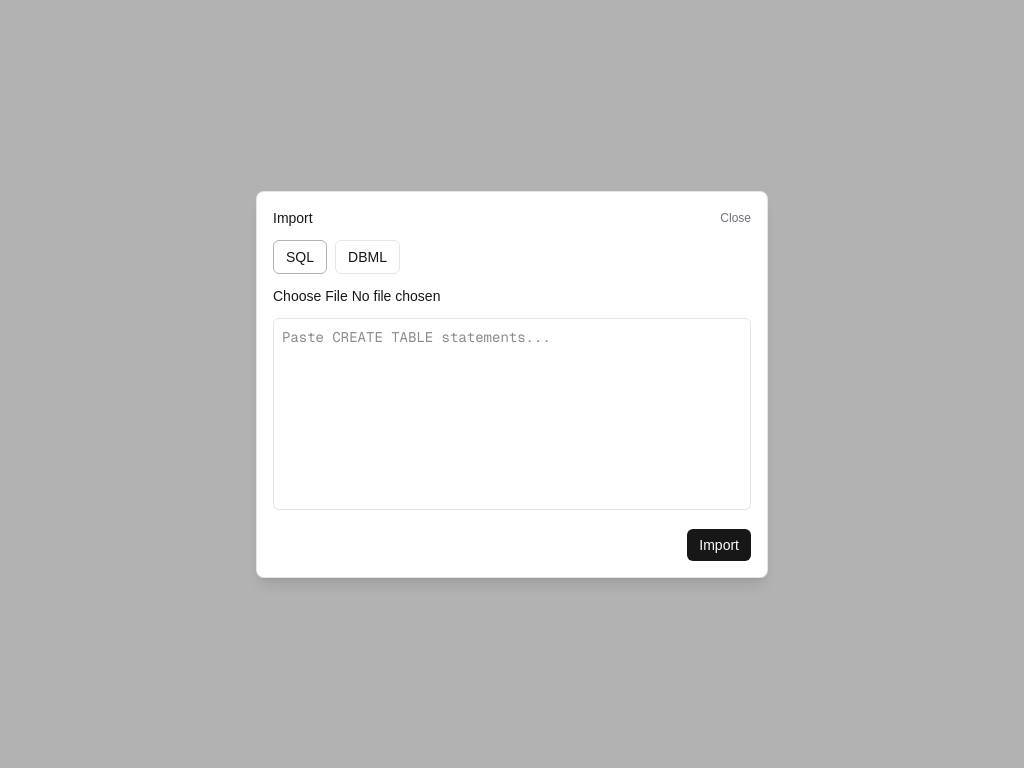
Test case: ImportDialog › shows an error and leaves the buffer untouched when SQL fails to parse
The width and height of the screenshot is (1024, 768).
Type "not sql" into the text box with placeholder "Paste CREATE TABLE statements..." at (512, 414), box x1=273 y1=318 x2=751 y2=510
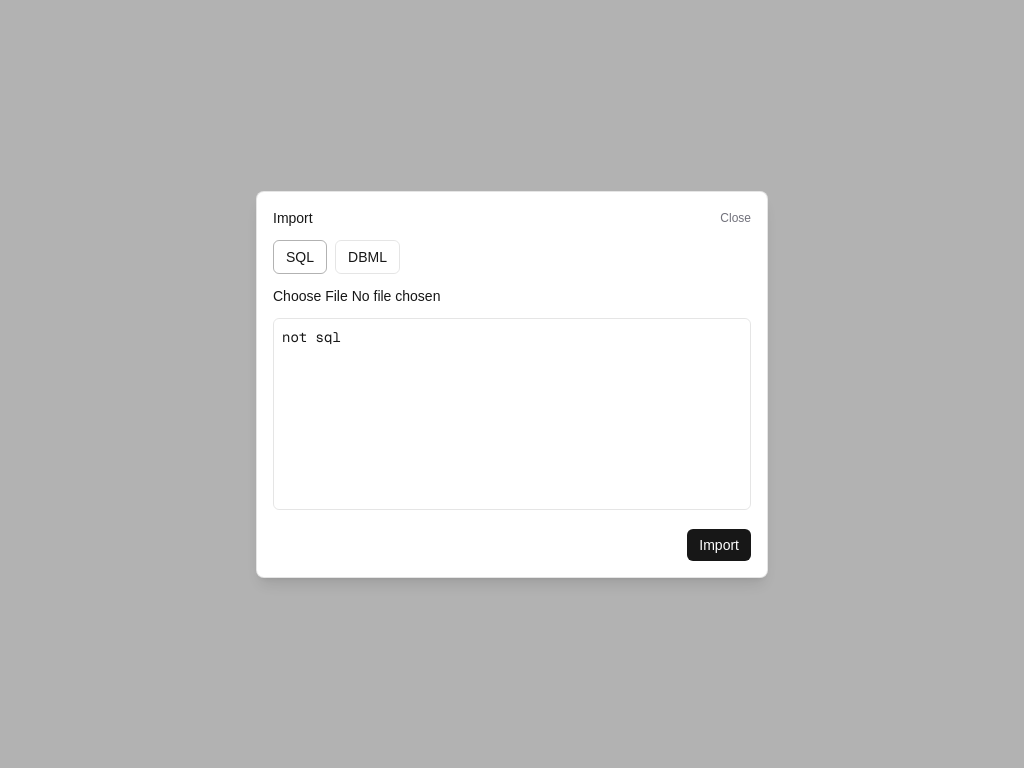
Click the button "Import" at (719, 544), box x1=687 y1=528 x2=751 y2=560
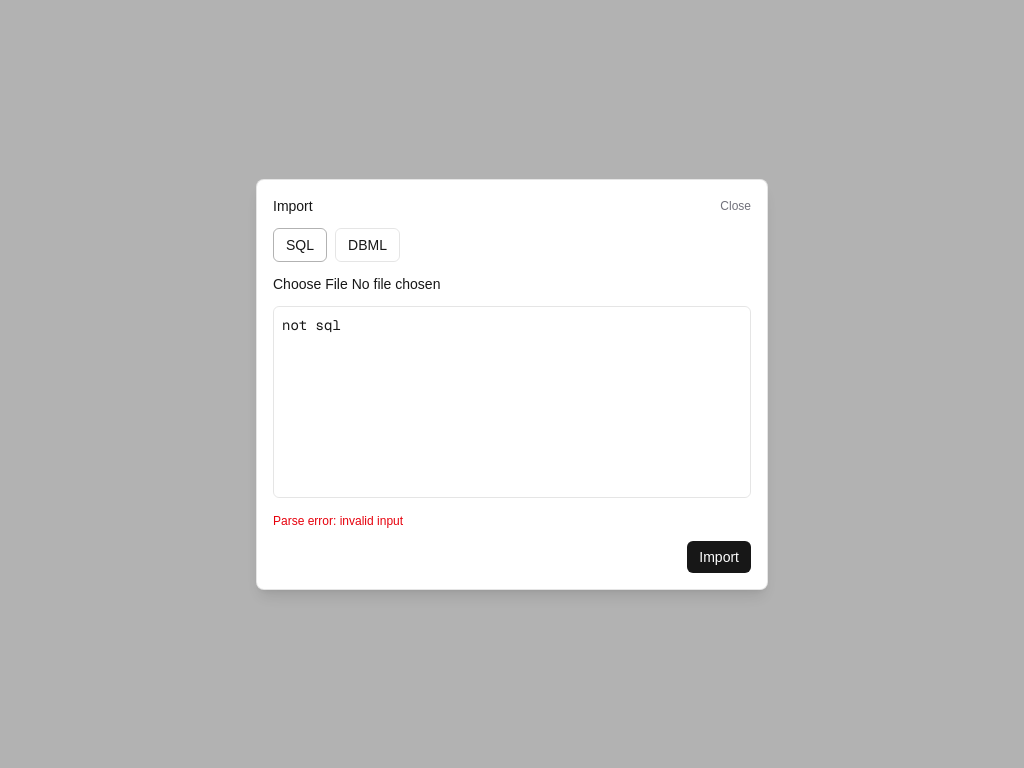
Expected: the text "Parse error: invalid input" is shown, x1=273 y1=514 x2=403 y2=528
